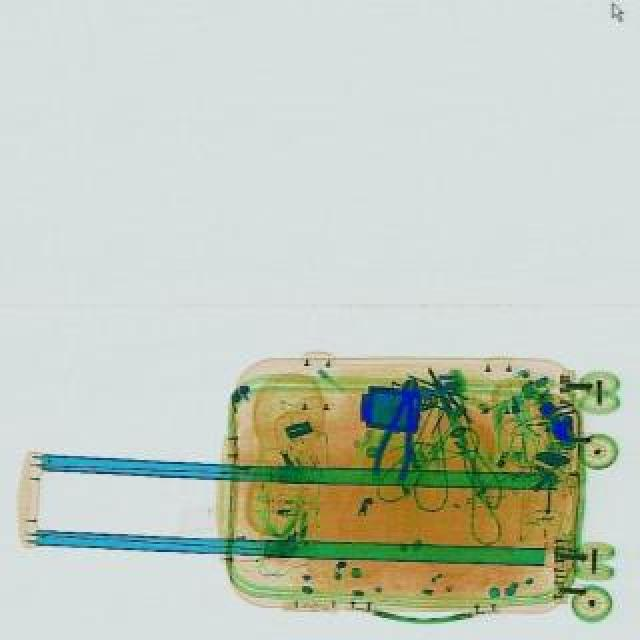wrench: (370, 374, 428, 482)
